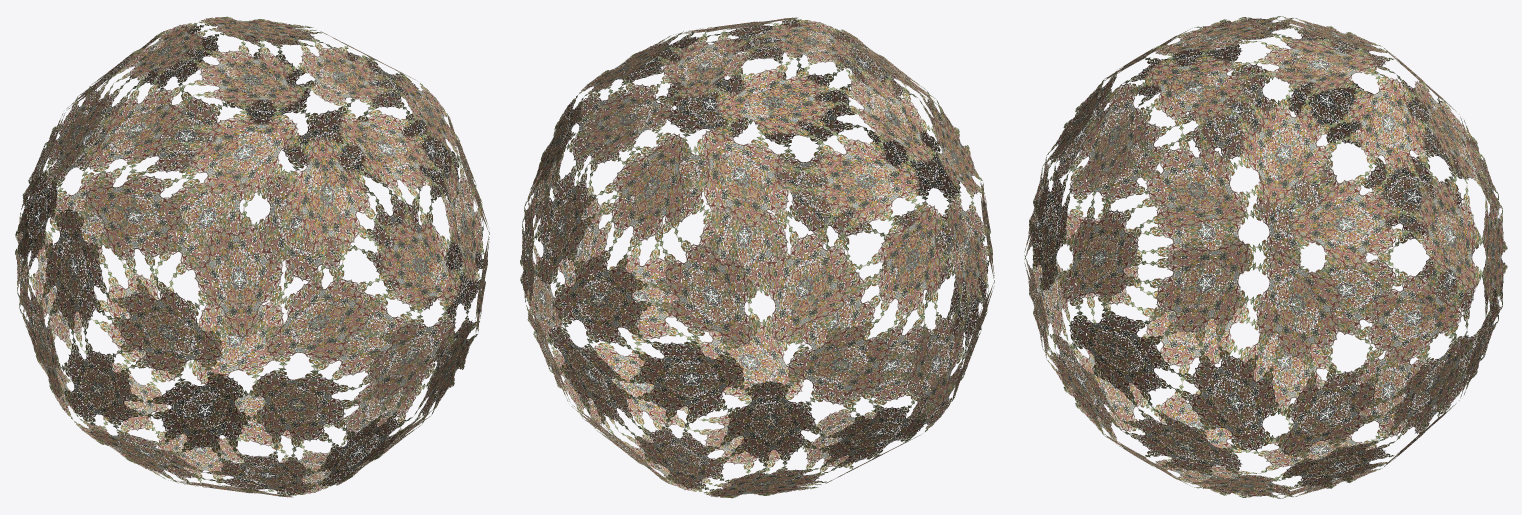
Rendered from PentagonalHexecontahedron10.obj.
3 views of the same model, side by side, from view 1: azimuth 30°, elevation 25°; view 2: azimuth 150°, elevation 25°; view 3: azimuth 270°, elevation 25° (orthographic).
Size of the model in its own units: 4.19 by 4.19 by 4.19.
1 material, 1 textured.
